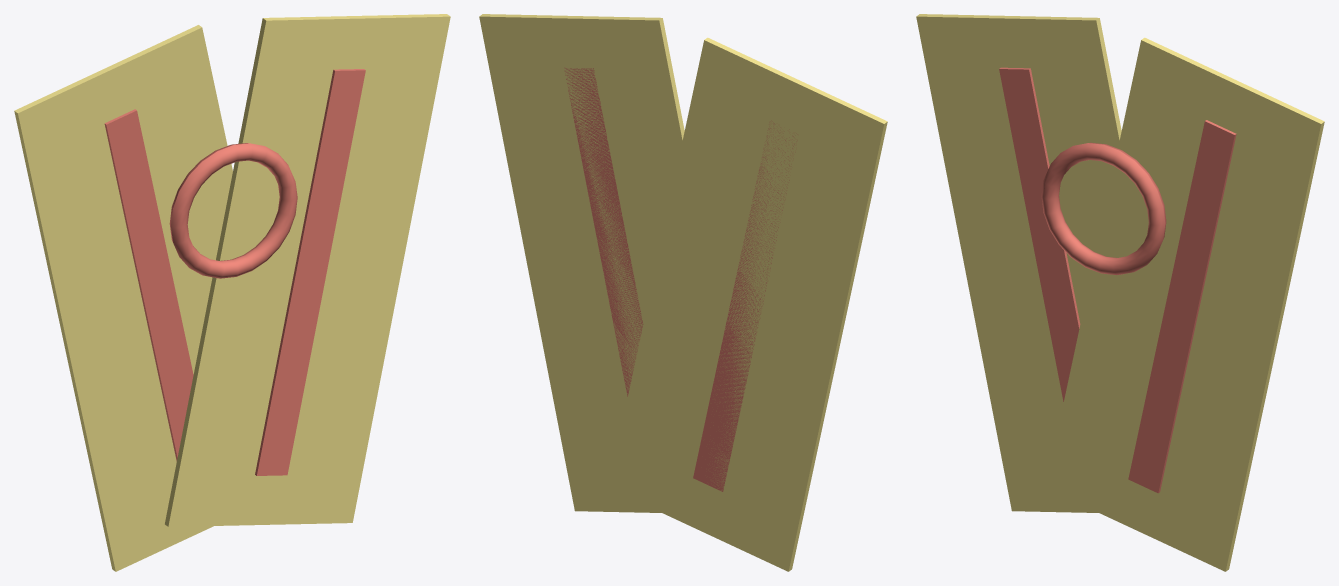
Rendered from bua_hoan_doi.glb.
3 views of the same model, side by side, from view 1: azimuth 30°, elevation 25°; view 2: azimuth 150°, elevation 25°; view 3: azimuth 330°, elevation 25° (orthographic). The views are drawn at different scales.
Parts seen in each view (by area): view 1: Box2, Box1, Box4, Box3, Tor1; view 2: Box1, Box2, Box4, Box3; view 3: Box2, Box1, Box4, Box3, Tor1.
Boxes of the visible parts, x1=… form: Box2: x1=165, y1=14, x2=450, y2=526; Box1: x1=14, y1=25, x2=232, y2=571; Box4: x1=255, y1=69, x2=365, y2=475; Box3: x1=104, y1=109, x2=193, y2=461; Tor1: x1=169, y1=143, x2=297, y2=278; Box1: x1=608, y1=37, x2=887, y2=571; Box2: x1=479, y1=14, x2=684, y2=512; Box4: x1=564, y1=67, x2=643, y2=396; Box3: x1=693, y1=120, x2=797, y2=491; Box2: x1=1045, y1=37, x2=1324, y2=571; Box1: x1=916, y1=14, x2=1121, y2=512; Box4: x1=1128, y1=120, x2=1236, y2=493; Box3: x1=999, y1=67, x2=1080, y2=401; Tor1: x1=1041, y1=142, x2=1166, y2=275.
Bounding box in the file's own units: 0.2698 × 0.3184 × 0.0218.
